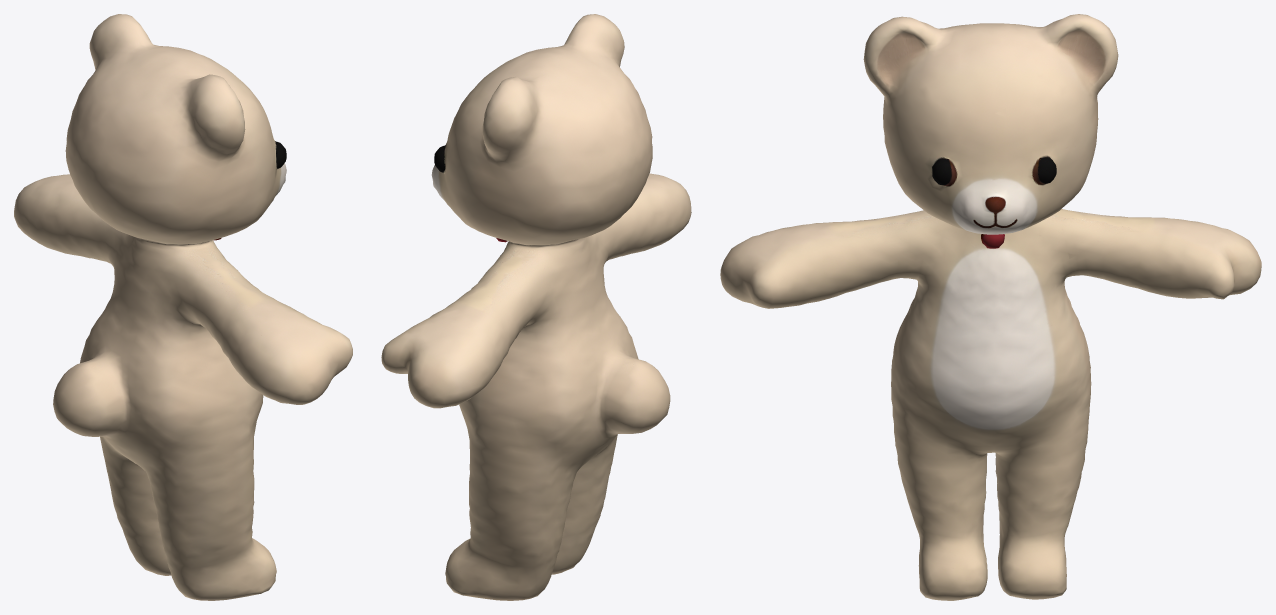
The model's file is Player.fbx.
The picture shows the model from 3 angles, left to right: view 1: azimuth 30°, elevation 25°; view 2: azimuth 150°, elevation 25°; view 3: azimuth 270°, elevation 25°; orthographic projection. The views are drawn at different scales.
Visible parts, largest first — view 1: mesh_node; view 2: mesh_node; view 3: mesh_node.
Part boxes in pixels (x1=…): mesh_node: x1=14, y1=14, x2=352, y2=600; mesh_node: x1=381, y1=14, x2=691, y2=600; mesh_node: x1=720, y1=14, x2=1261, y2=600.
Size of the model in its own units: 82.57 by 191 by 169.
1 material, 1 textured.
